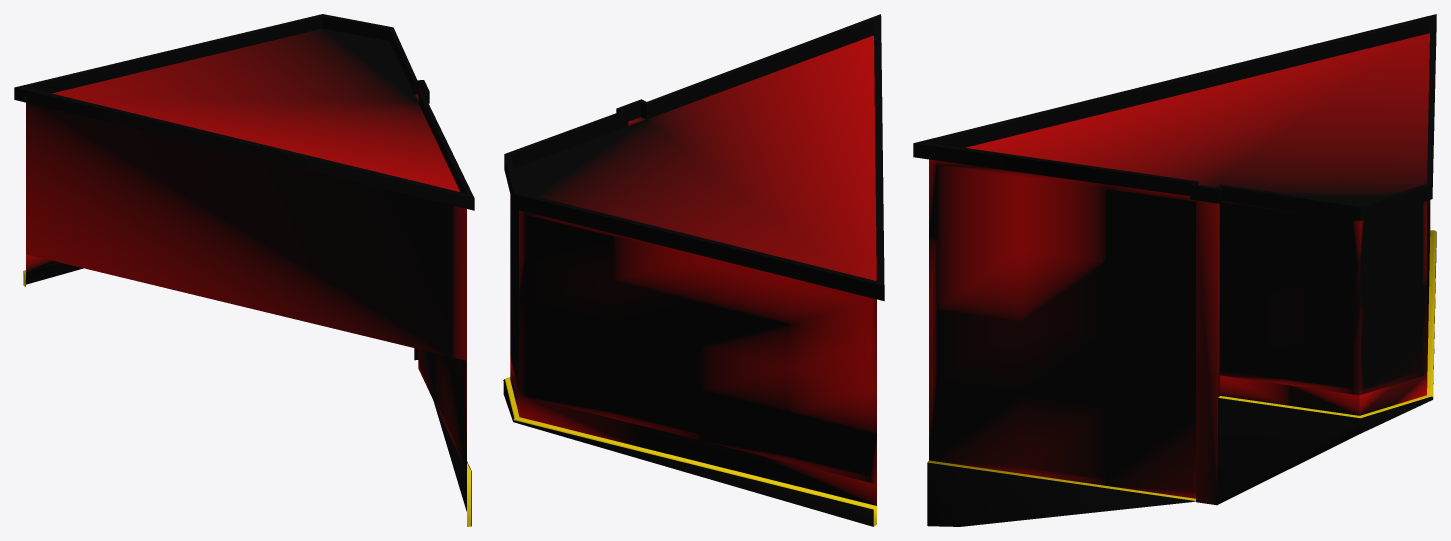
File: House_Corner1.fbx
3 renders of one model, left to right at view 1: azimuth 30°, elevation 25°; view 2: azimuth 150°, elevation 25°; view 3: azimuth 270°, elevation 25°, orthographic. The views are drawn at different scales.
Parts seen in each view (by area): view 1: House_Corner1, House_Corner1.001; view 2: House_Corner1.001, House_Corner1; view 3: House_Corner1, House_Corner1.001.
Boxes of the visible parts, x1,y1,x2,y2 form: House_Corner1: (14,27,474,526); House_Corner1.001: (16,14,392,286); House_Corner1.001: (503,154,884,526); House_Corner1: (505,14,884,379); House_Corner1: (913,14,1435,526); House_Corner1.001: (1359,14,1436,433).
Size of the model in its own units: 1473 by 1353 by 1684.
